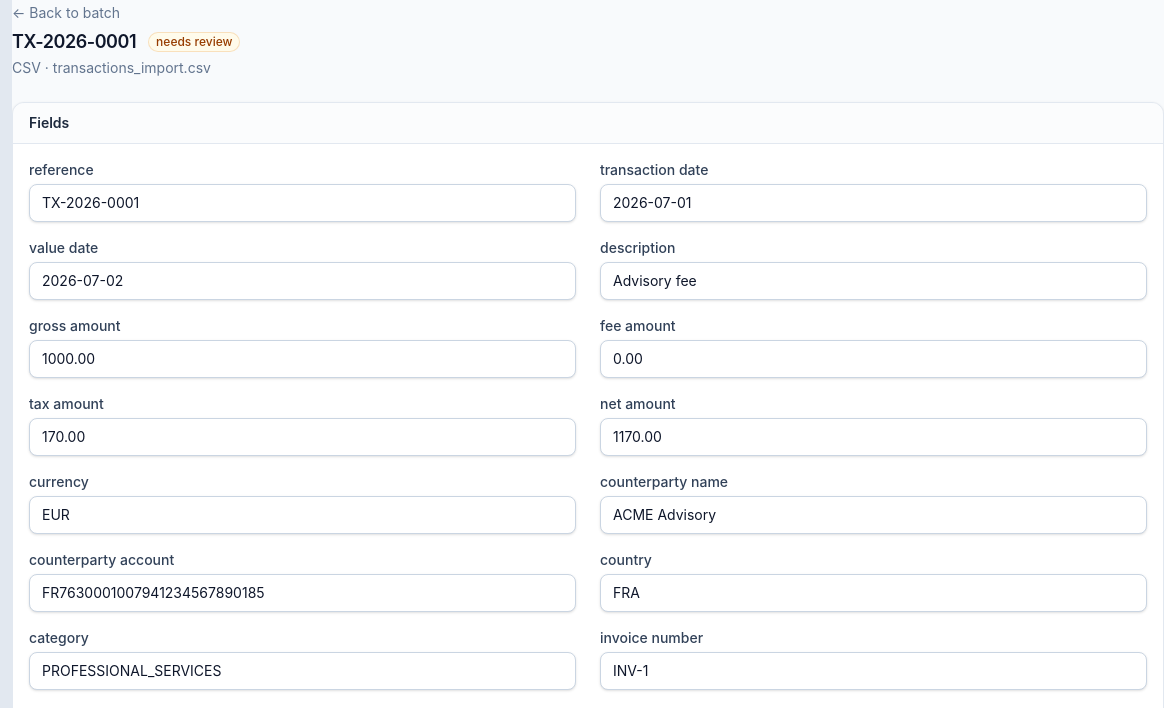
it: correcting a record › a correction can be abandoned
Replace the text in the field labelled "country" with "XX" at (874, 593), box [600,574,1147,612]
(page scrolled)
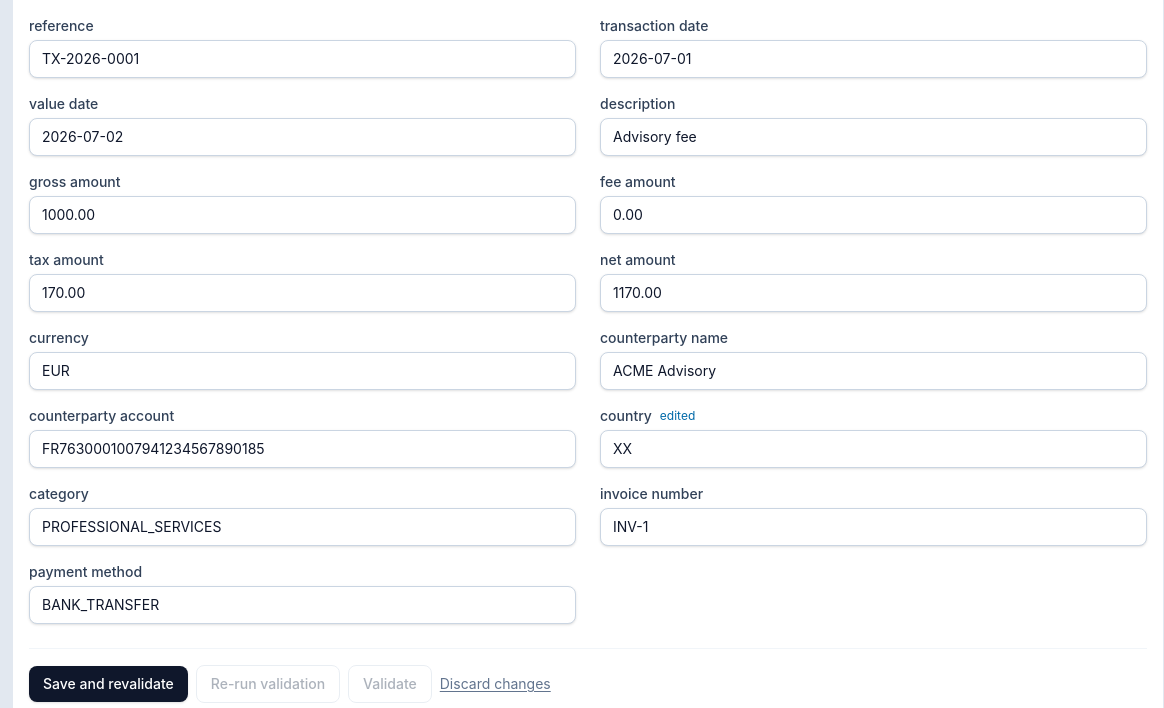
Click the button "Discard changes" at (495, 684), box [440,674,551,694]
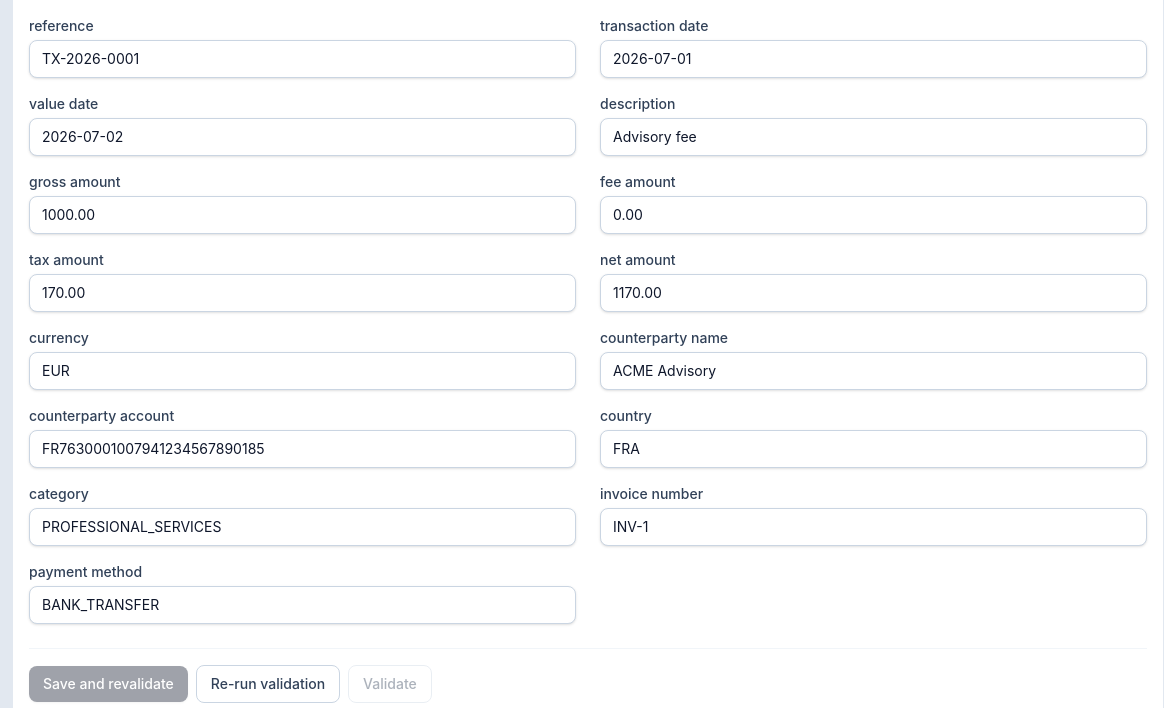
expect the button "Save and revalidate" is disabled: met, box [29,666,188,702]
